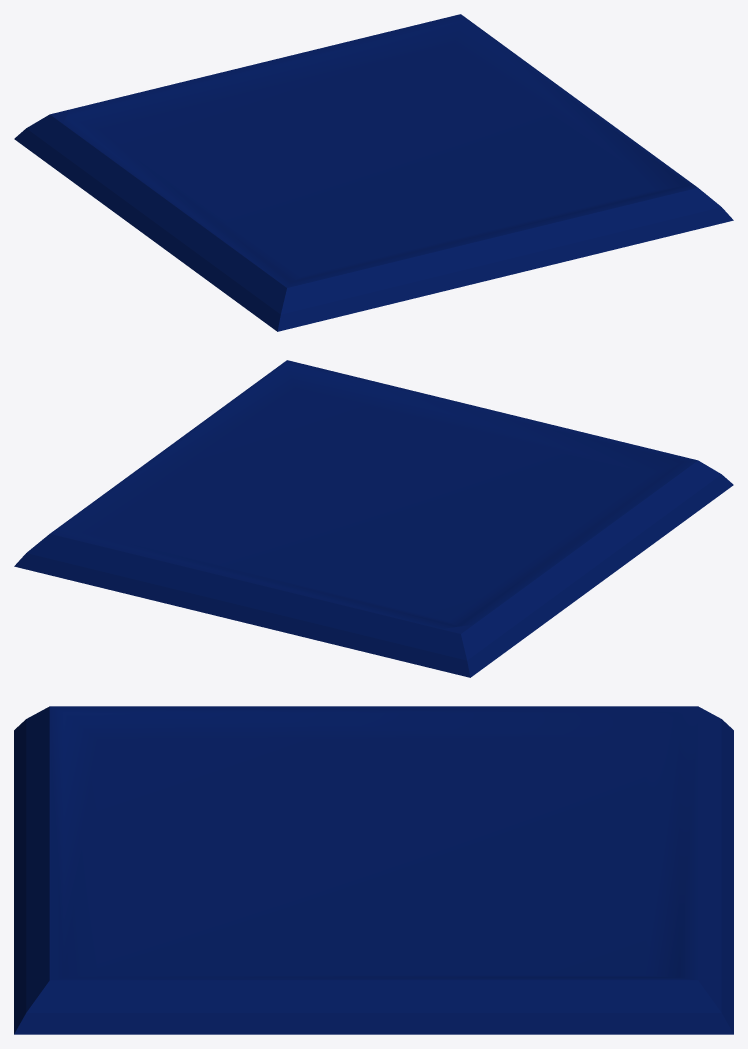
File: board.fbx
The picture shows the model from 3 angles, top to bottom: view 1: azimuth 30°, elevation 25°; view 2: azimuth 150°, elevation 25°; view 3: azimuth 270°, elevation 25°; orthographic projection. The views are drawn at different scales.
Visible parts, largest first — view 1: board; view 2: board; view 3: board.
Boxes of the visible parts, x1,y1,x2,y2 form: board: (14,14,733,331); board: (14,360,733,677); board: (14,706,733,1034).
Size of the model in its own units: 16.15 by 0.969 by 16.15.
